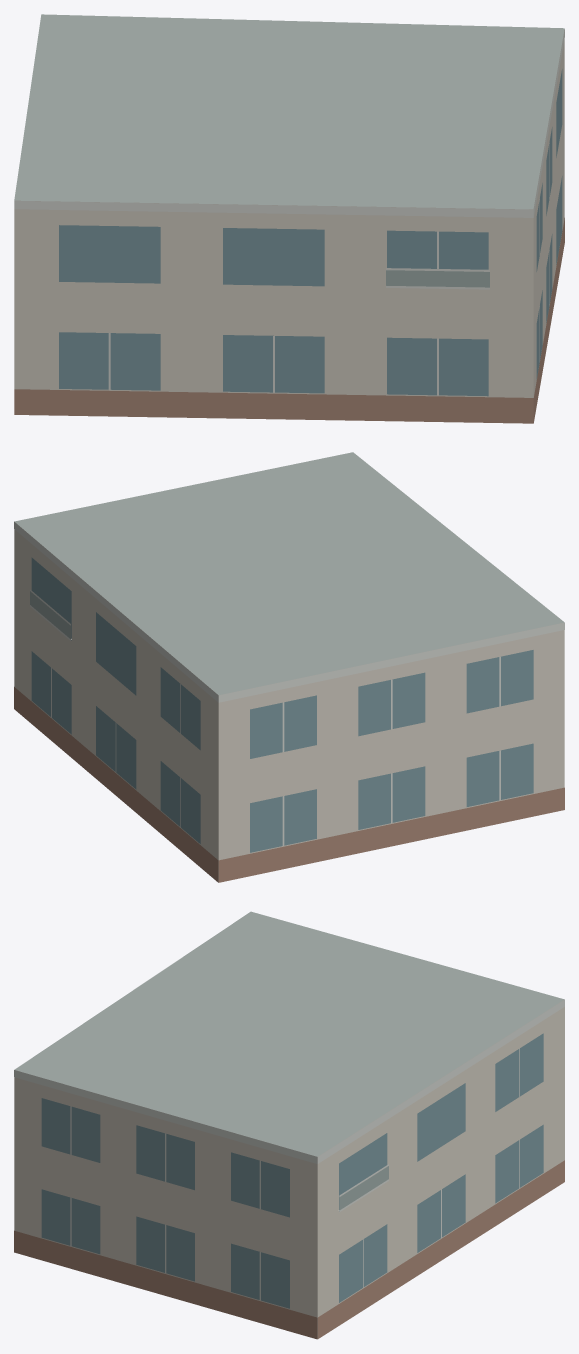
The model's file is survey-upis-32891187.glb.
The picture shows the model from 3 angles, top to bottom: view 1: azimuth 30°, elevation 25°; view 2: azimuth 150°, elevation 25°; view 3: azimuth 270°, elevation 25°; orthographic projection. The views are drawn at different scales.
Visible parts, largest first — view 1: survey-upis-32891187.tmp; view 2: survey-upis-32891187.tmp; view 3: survey-upis-32891187.tmp.
Boxes of the visible parts, bbox=[...] form: survey-upis-32891187.tmp: bbox=[14, 14, 564, 423]; survey-upis-32891187.tmp: bbox=[14, 452, 564, 882]; survey-upis-32891187.tmp: bbox=[14, 911, 564, 1339].
Size of the model in its own units: 17.59 by 6.1 by 16.69.
